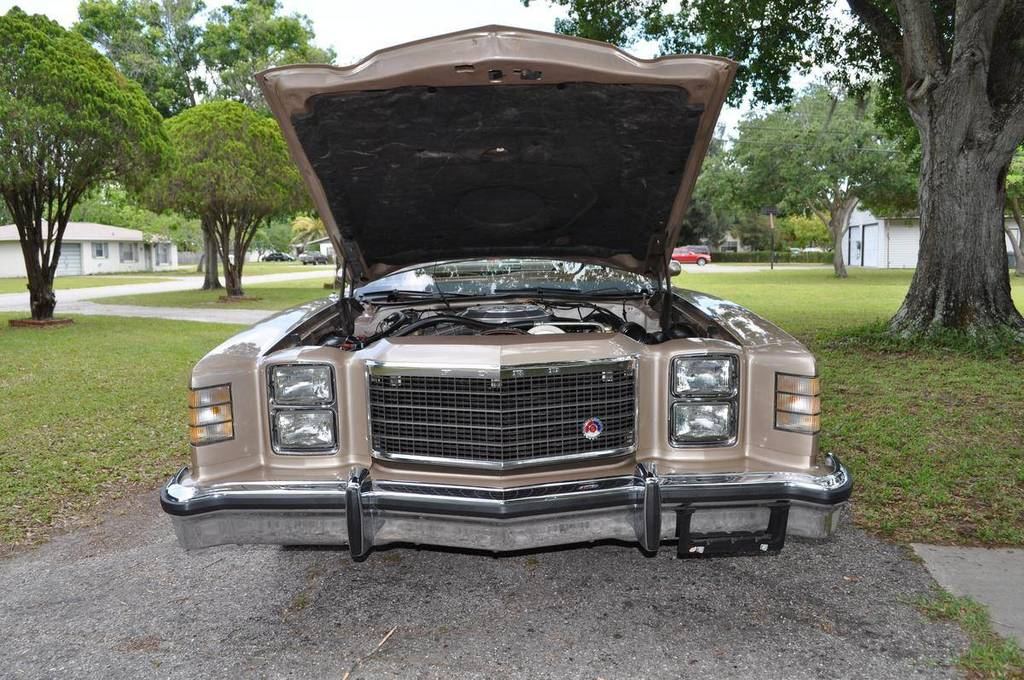car: (139, 16, 824, 608), (666, 237, 736, 270)
